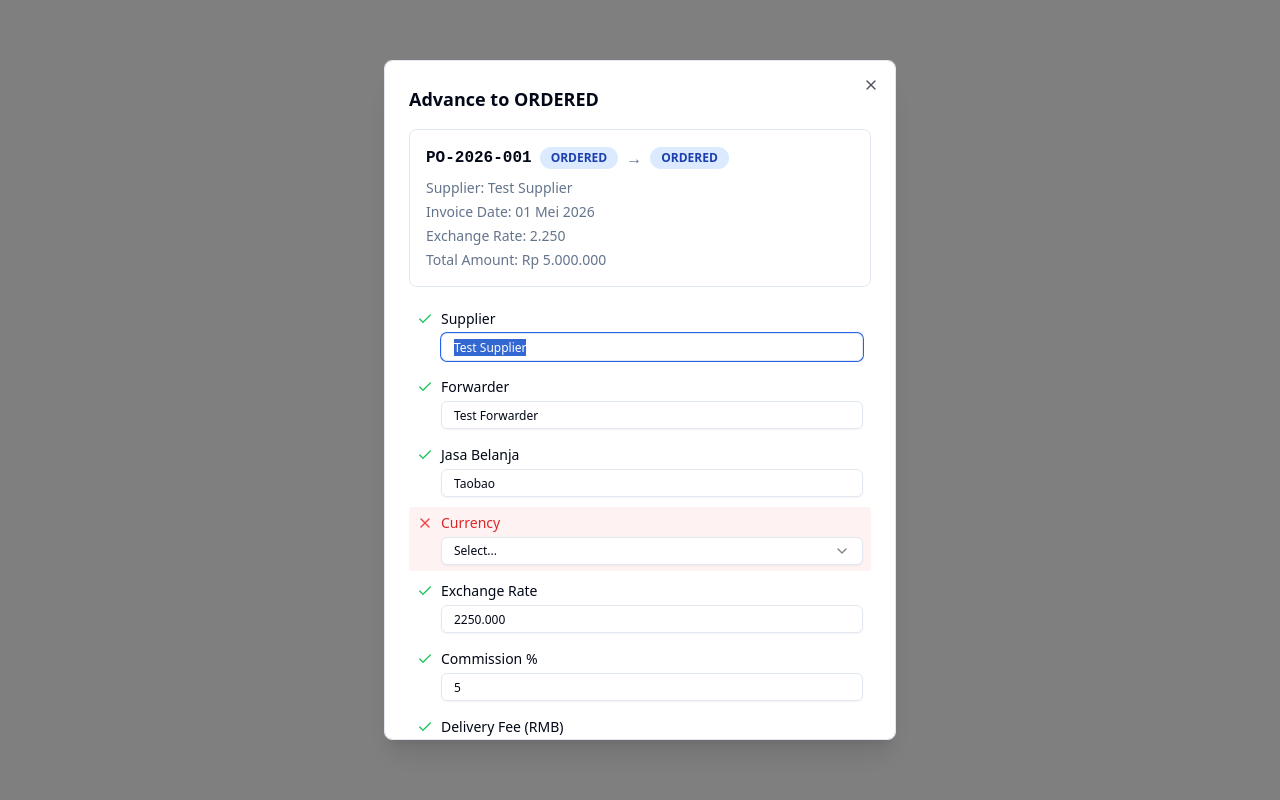
Scenario: Confirm button enabled after selecting a currency for ORDERED
Click the dropdown with test id "currency-select-trigger": coordinates (475, 550) [441,537,863,565]
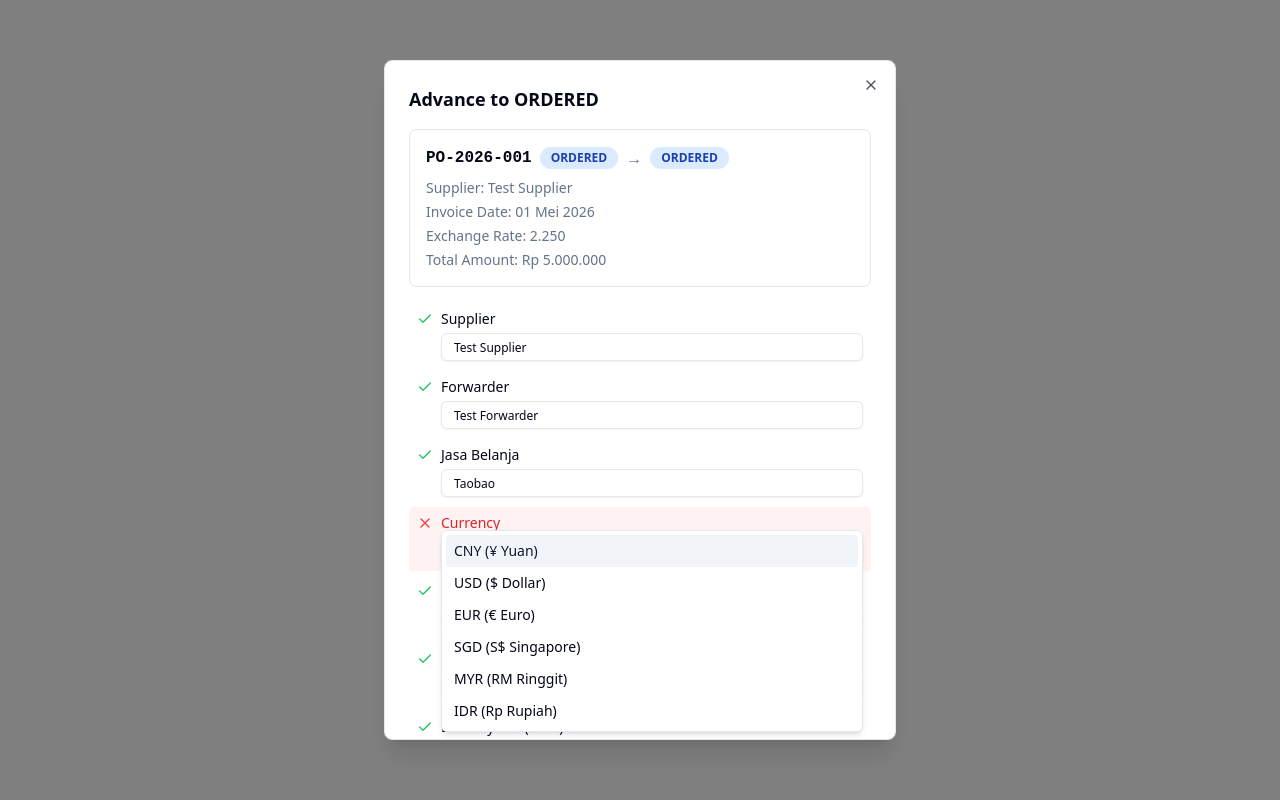
Click the option "CNY (¥ Yuan)": coordinates (496, 550) [446,535,858,567]
(page scrolled)
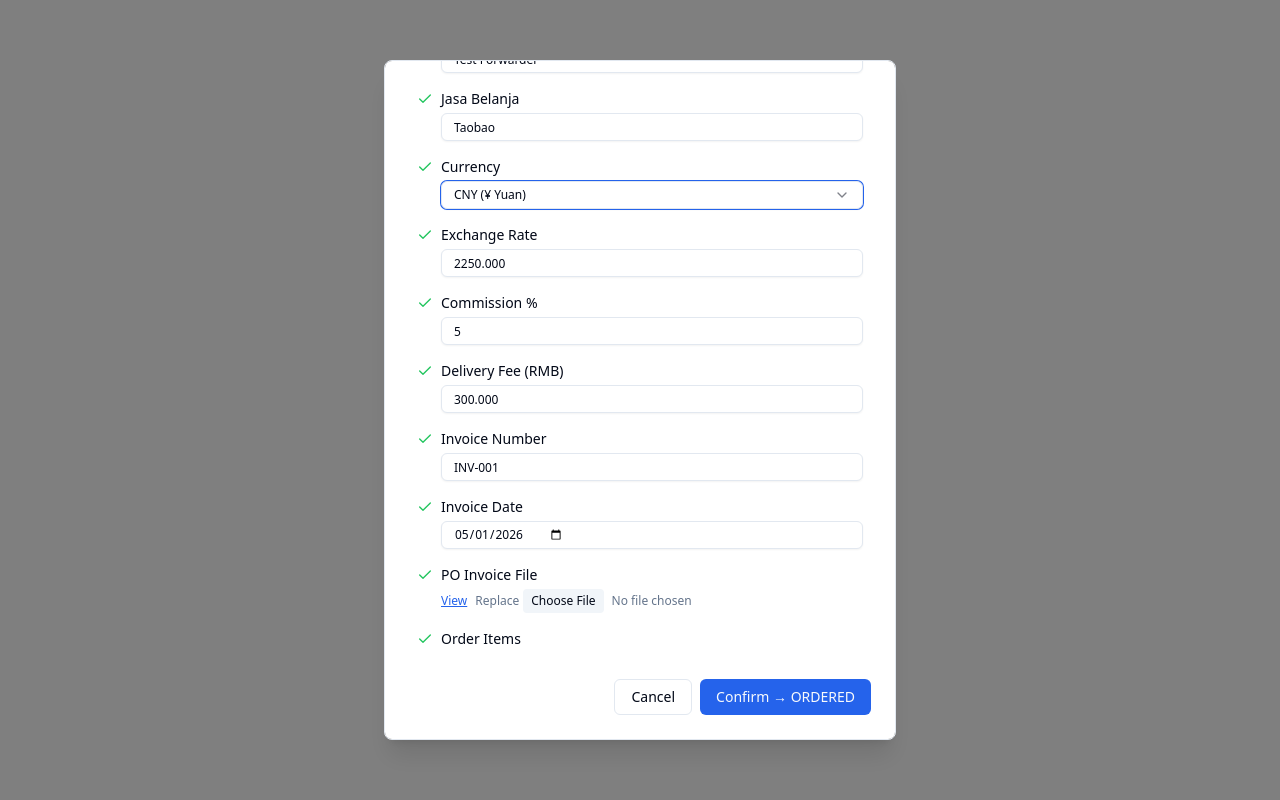
Result: the button "Confirm → ORDERED" is enabled at [700,679,871,715]
